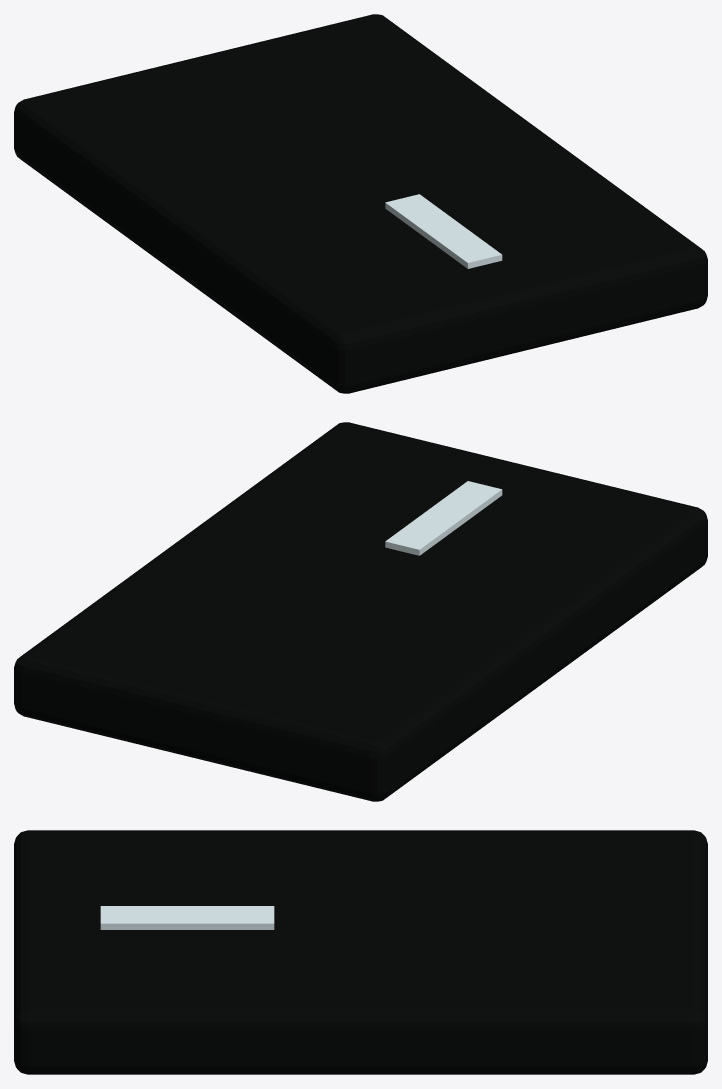
The model's file is rear_power_switch.obj.
3 renders of one model, top to bottom at view 1: azimuth 30°, elevation 25°; view 2: azimuth 150°, elevation 25°; view 3: azimuth 270°, elevation 25°, orthographic. The views are drawn at different scales.
Visible parts, largest first — view 1: flex__rear_power_switch__rocker, flex__rear_power_switch__mark_on; view 2: flex__rear_power_switch__rocker, flex__rear_power_switch__mark_on; view 3: flex__rear_power_switch__rocker, flex__rear_power_switch__mark_on.
Boxes of the visible parts, left/top/right/bottom form: flex__rear_power_switch__rocker: left=14, top=14, right=707, bottom=393; flex__rear_power_switch__mark_on: left=385, top=194, right=502, bottom=268; flex__rear_power_switch__rocker: left=14, top=422, right=707, bottom=801; flex__rear_power_switch__mark_on: left=385, top=481, right=502, bottom=555; flex__rear_power_switch__rocker: left=14, top=830, right=707, bottom=1074; flex__rear_power_switch__mark_on: left=100, top=906, right=274, bottom=929.
Bounding box in the file's own units: 0.013 × 0.0022 × 0.02.
